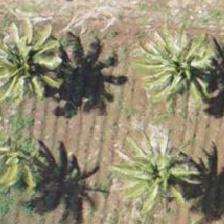coconut_tree: (112, 129, 202, 219), (139, 21, 223, 111), (0, 14, 70, 104), (0, 113, 60, 203)
